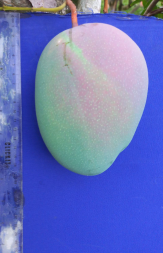Mango-sano: (35, 23, 148, 175)
